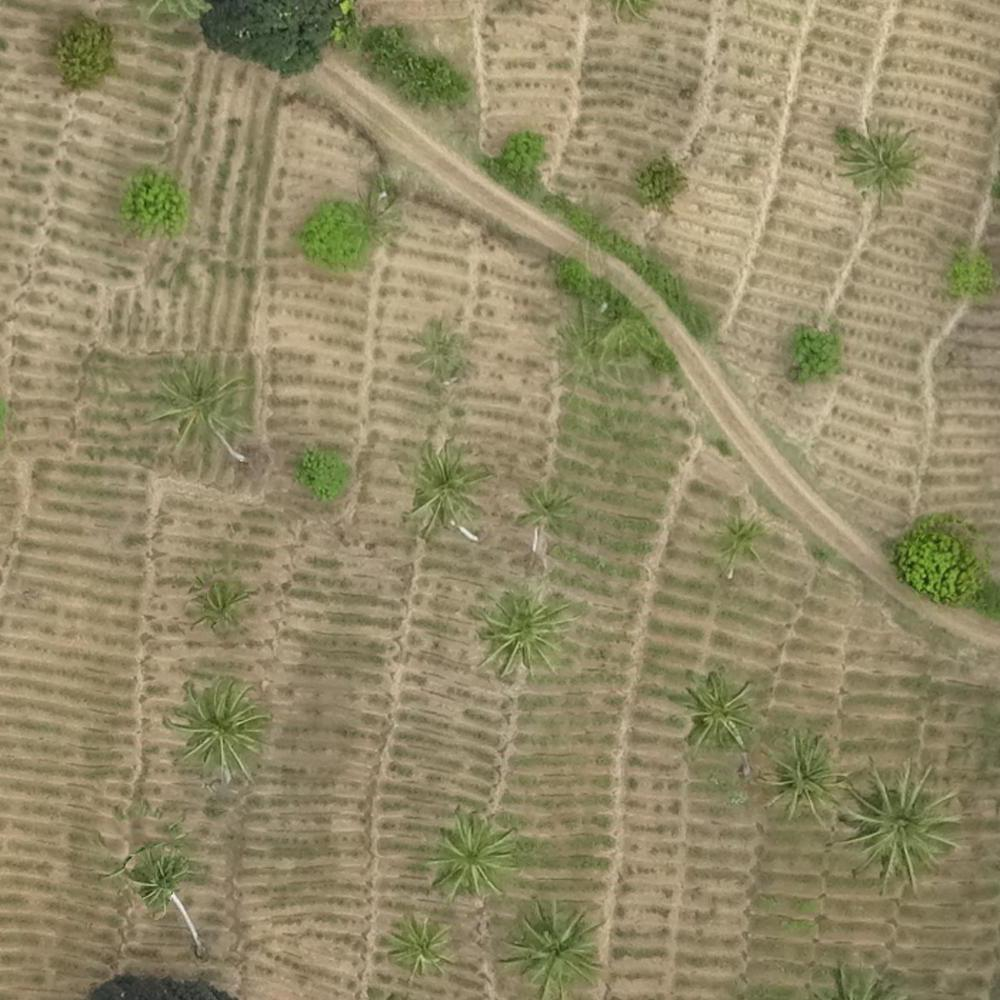Palm: (838, 765, 957, 877), (172, 682, 264, 775), (507, 902, 600, 989), (152, 356, 244, 442), (478, 589, 567, 676), (426, 812, 517, 896), (406, 439, 489, 525), (764, 736, 847, 819), (838, 119, 917, 196), (676, 673, 758, 747), (701, 507, 770, 574), (383, 915, 452, 979), (130, 846, 191, 911), (186, 576, 248, 629), (514, 479, 572, 532)
